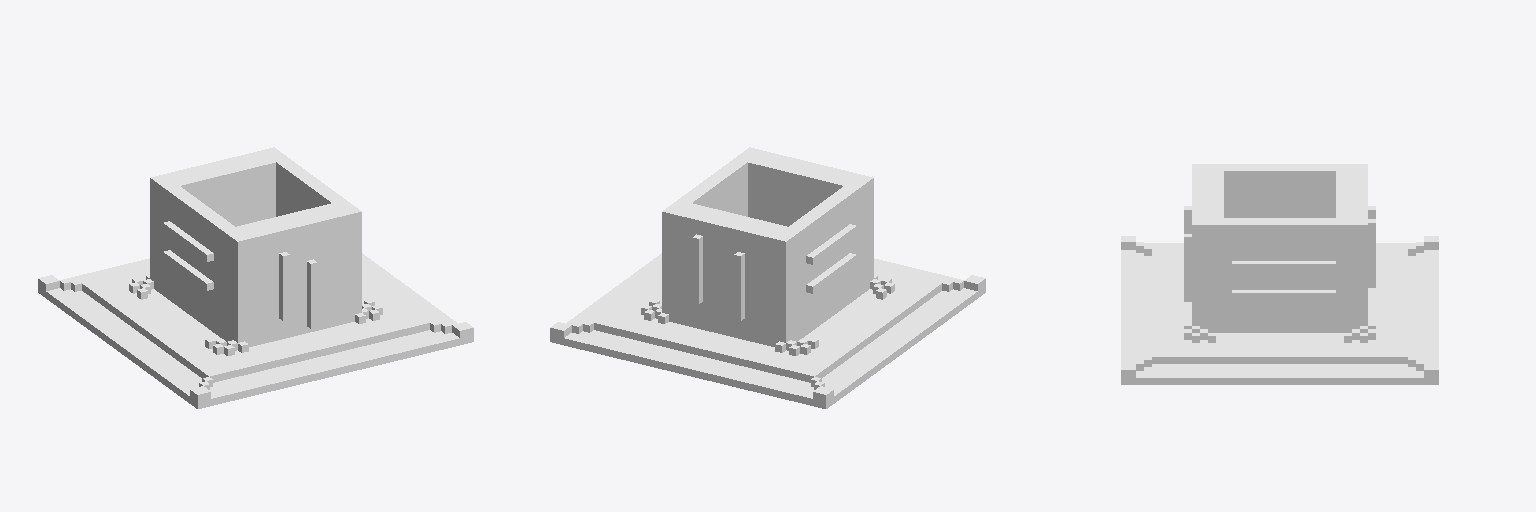
The model's file is Stoyka.obj.
3 views of the same model, side by side, from view 1: azimuth 30°, elevation 25°; view 2: azimuth 150°, elevation 25°; view 3: azimuth 270°, elevation 25° (orthographic).
Visible parts, largest first — view 1: object 1; view 2: object 1; view 3: object 1.
Part boxes in pixels (x1,y1,x2,y2): object 1: (38,147,473,408); object 1: (550,147,985,408); object 1: (1121,164,1438,384).
Size of the model in its own units: 4 by 1.7 by 4.